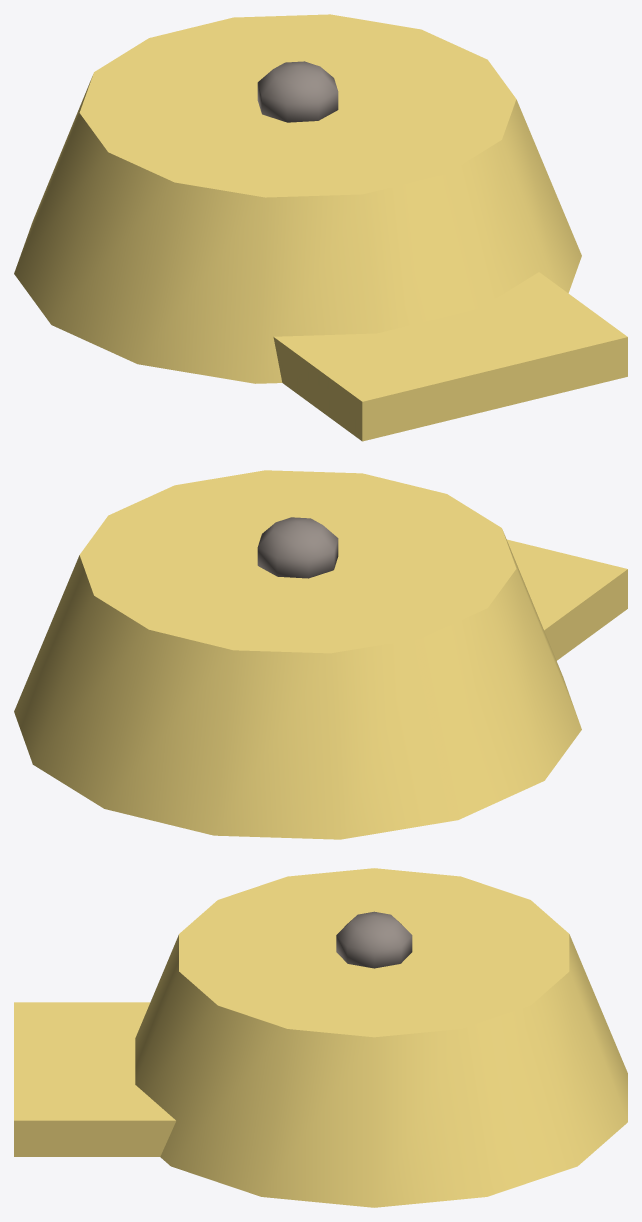
Rendered from hat_cap.glb.
3 views of the same model, one above another, from view 1: azimuth 30°, elevation 25°; view 2: azimuth 150°, elevation 25°; view 3: azimuth 270°, elevation 25° (orthographic). The views are drawn at different scales.
Visible parts, largest first — view 1: hat_cap; view 2: hat_cap; view 3: hat_cap.
Boxes of the visible parts, box(x1,y1,x2,y2) form: hat_cap: box(14, 14, 627, 441); hat_cap: box(14, 470, 627, 839); hat_cap: box(14, 868, 627, 1207).
Bounding box in the file's own units: 26 × 10 × 30.67.
